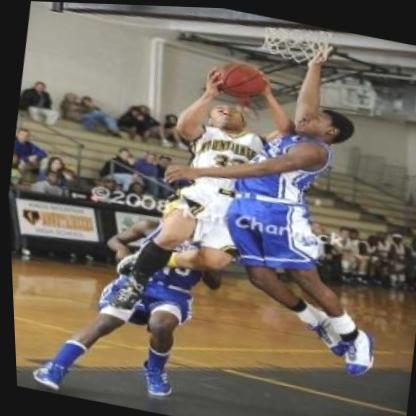basketball: (207, 48, 279, 106)
